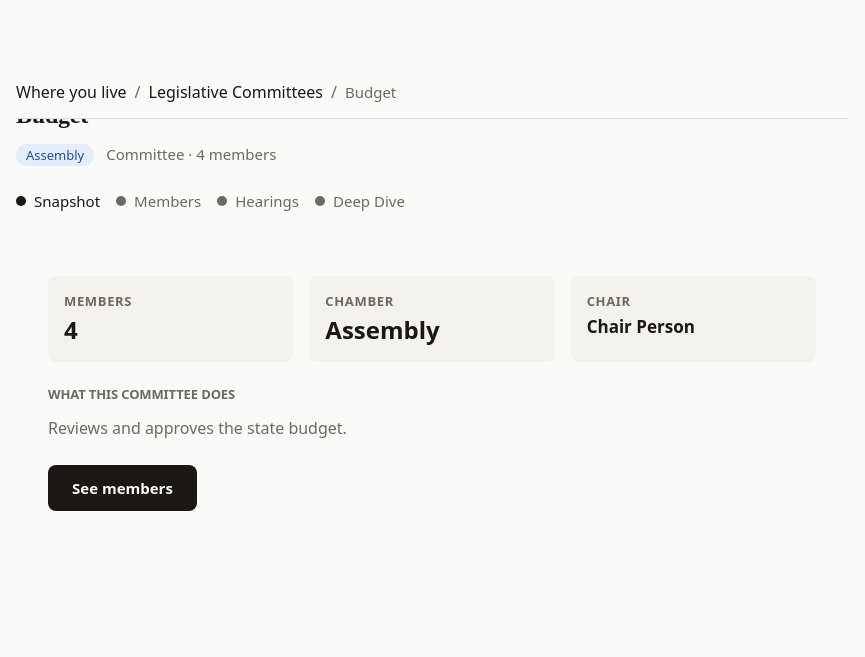
LegislativeCommitteeDetailPage › shows just the activity feed when no scheduled meetings match
Click the button "See members": click(122, 488) [48,465,197,512]
(page scrolled)
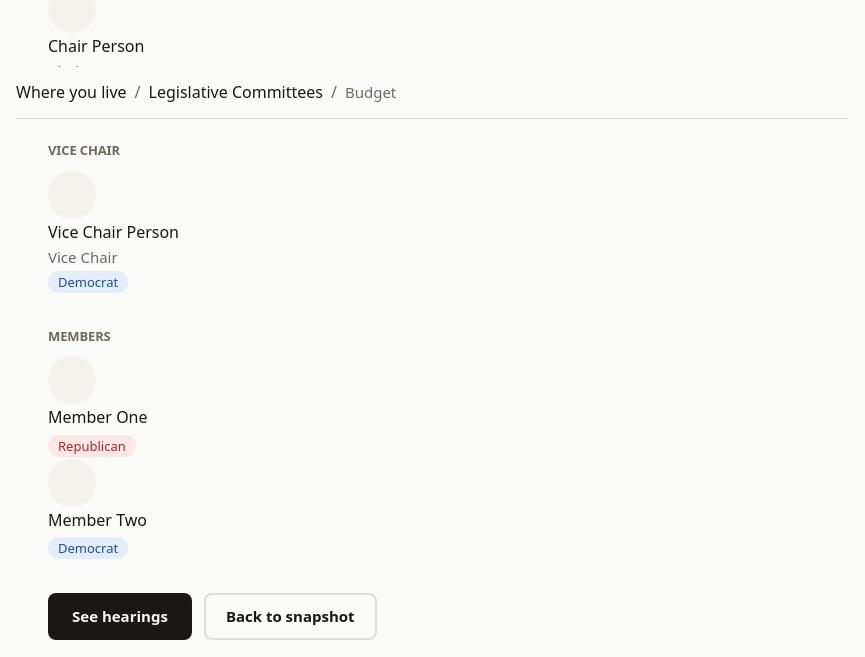
Click the button "See hearings": click(120, 616) [48,593,192,640]
(page scrolled)
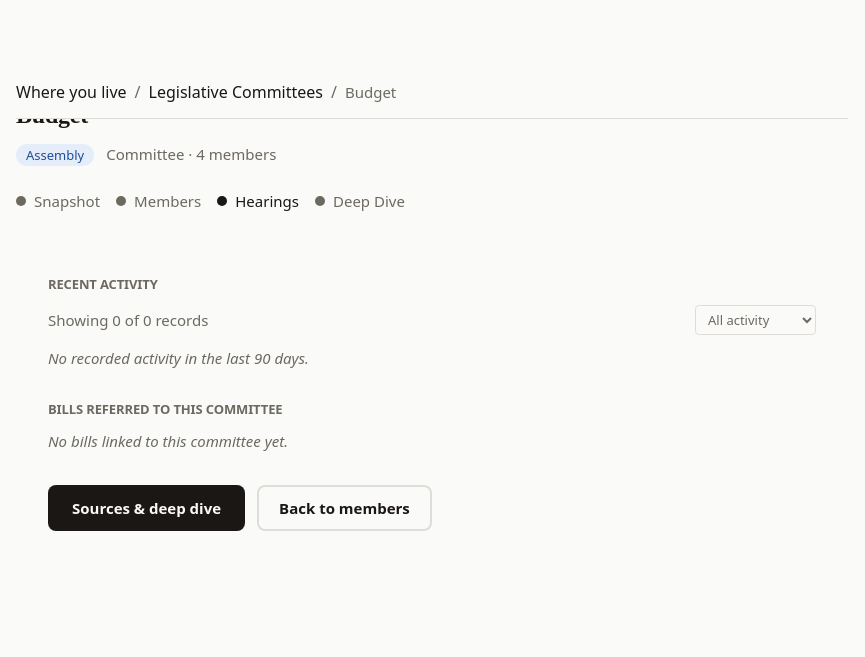
Check: the heading "Recent activity" is shown, box [48,275,158,293]
